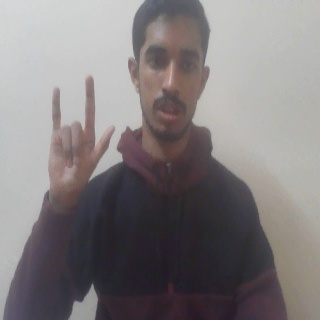Face: (128, 2, 211, 144)
I Love You: (41, 75, 119, 214)
